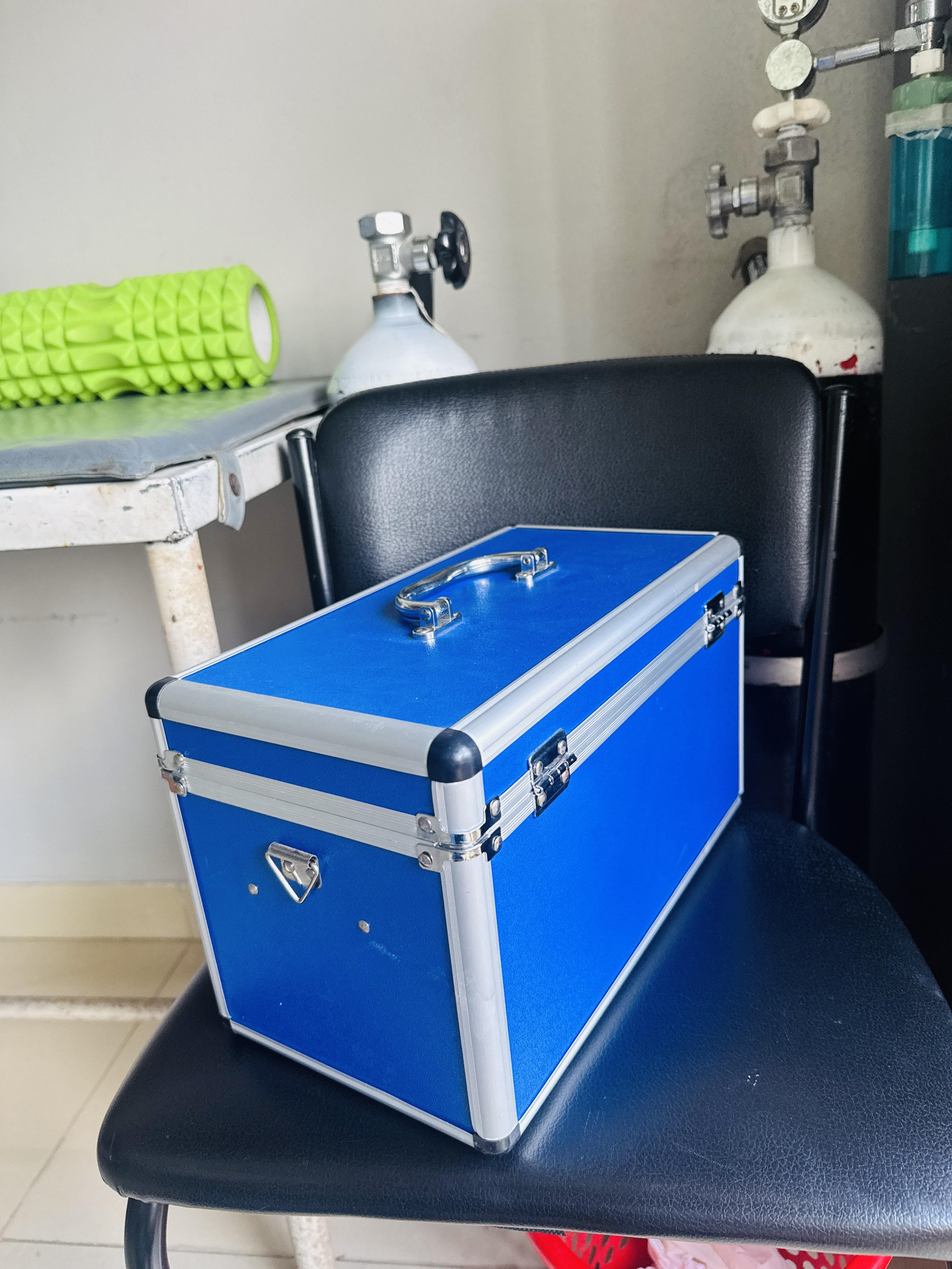FirstAidBox: (151, 487, 803, 1186)
